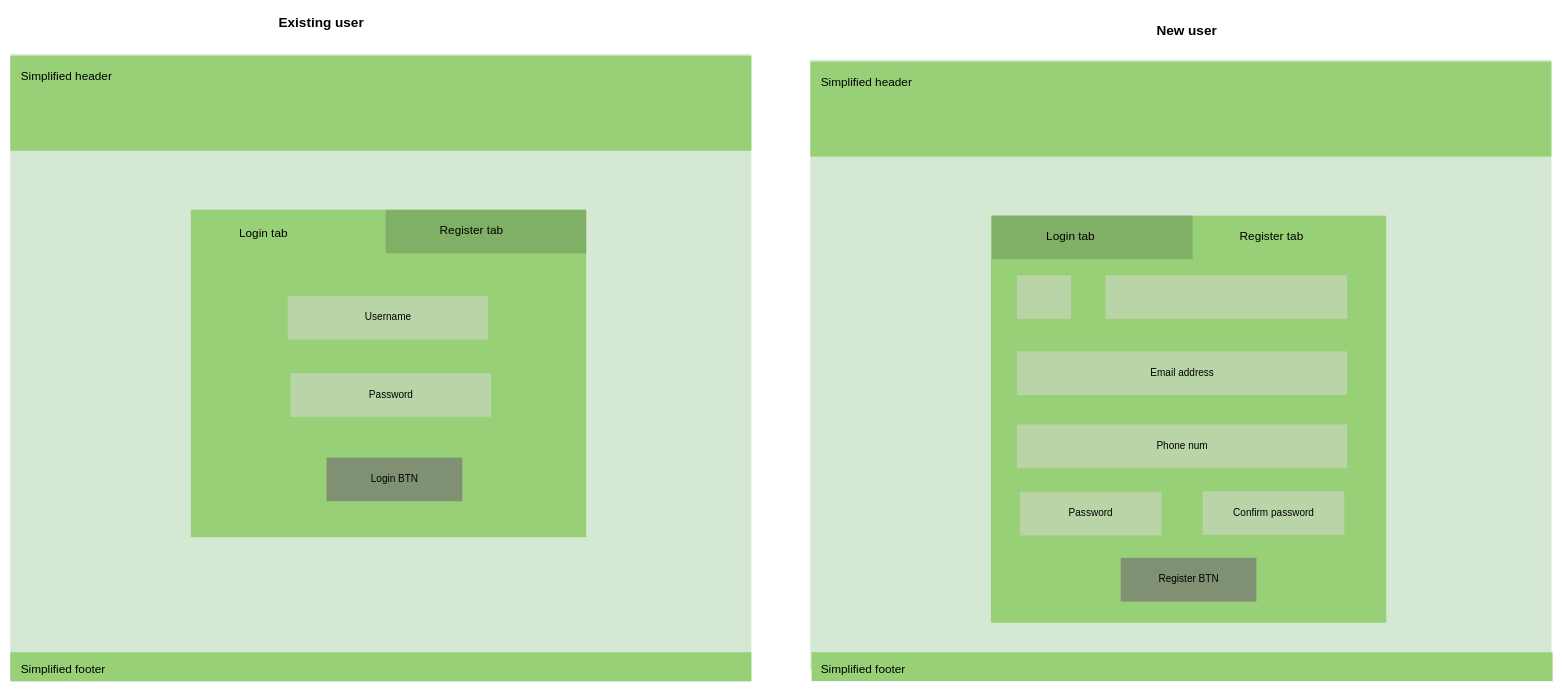
The diagram is 1562 pixels wide and 700 high, and some of its shapes have lost their labels. Each missing label, with the centre of its shape:
Full Name: (1226,297)
Title: (1044,297)
